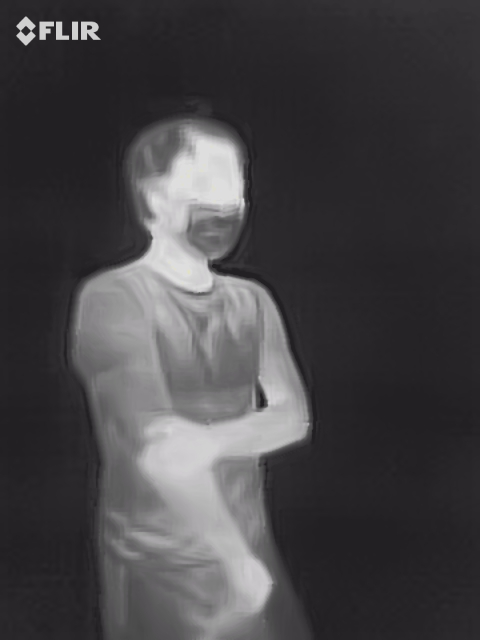head: (118, 114, 247, 263)
